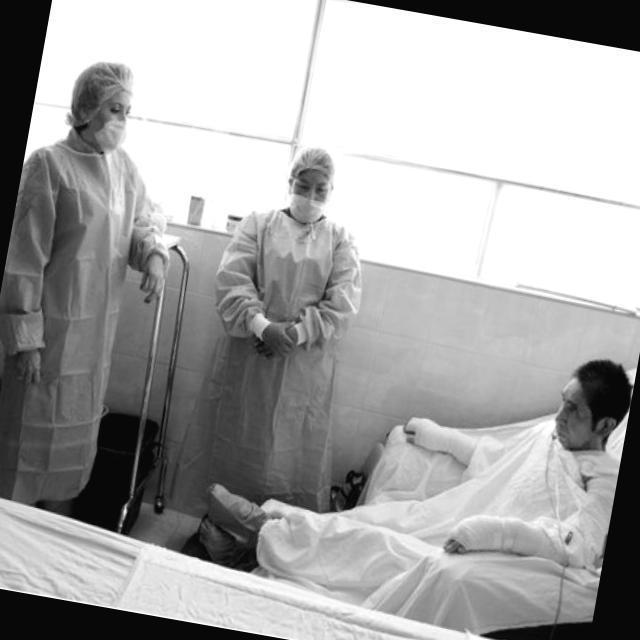no_apron: (253, 298, 309, 362), (9, 336, 58, 384), (138, 246, 166, 306)
